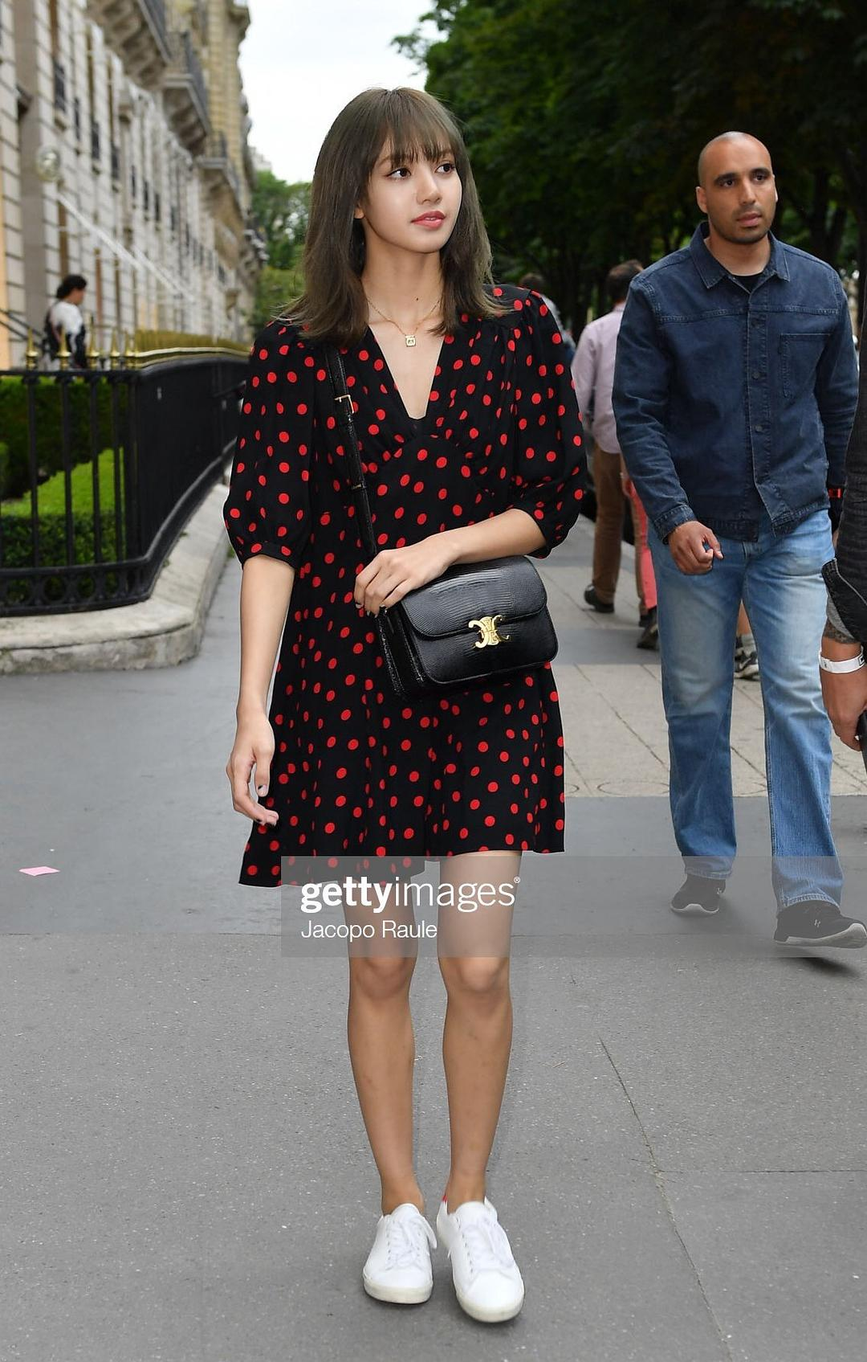up: (221, 67, 607, 1355)
